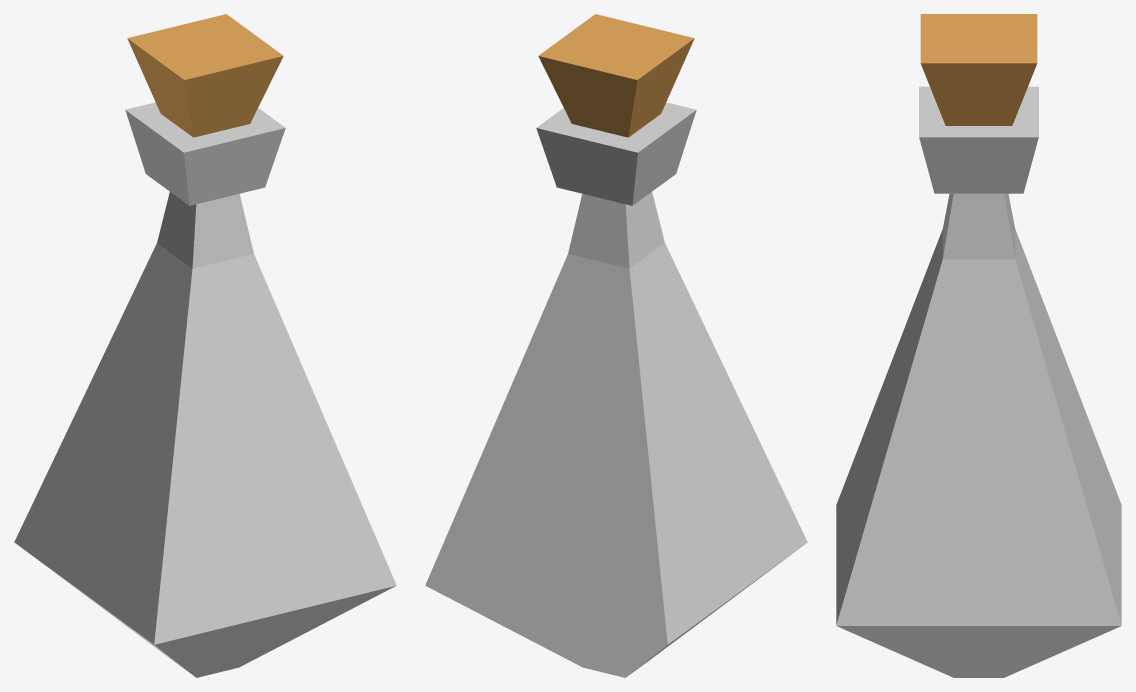
The model's file is HolyWater Model.fbx.
The picture shows the model from 3 angles, left to right: view 1: azimuth 30°, elevation 25°; view 2: azimuth 150°, elevation 25°; view 3: azimuth 270°, elevation 25°; orthographic projection.
Visible parts, largest first — view 1: Bottle; view 2: Bottle; view 3: Bottle.
Part boxes in pixels (x1=…): Bottle: x1=14, y1=14, x2=396, y2=677; Bottle: x1=425, y1=14, x2=807, y2=677; Bottle: x1=836, y1=14, x2=1121, y2=677.
Size of the model in its own units: 0.164 by 0.3985 by 0.164.
